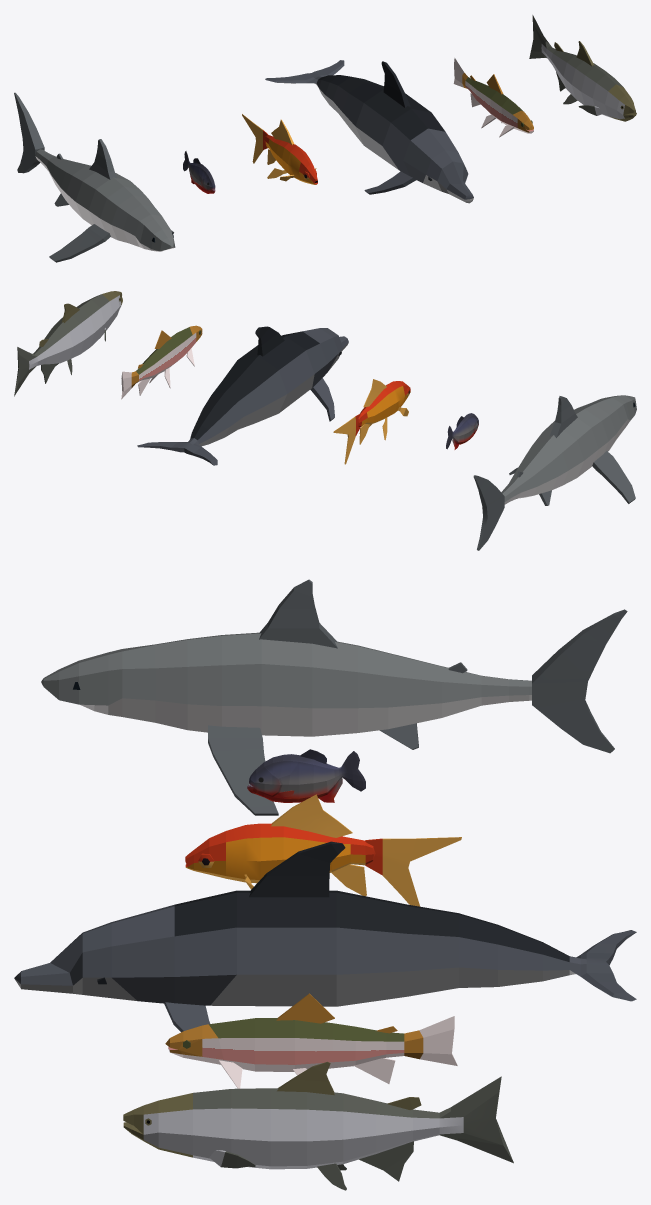
Rendered from fishies.glb.
3 renders of one model, top to bottom at view 1: azimuth 30°, elevation 25°; view 2: azimuth 150°, elevation 25°; view 3: azimuth 270°, elevation 25°, orthographic. The views are drawn at different scales.
Parts seen in each view (by area): view 1: Geo_Dolphin, Geo_Shark, Geo_Salmon, Geo_Goldfish, Geo_Trout, Piranha_mesh; view 2: Geo_Dolphin, Geo_Shark, Geo_Salmon, Geo_Trout, Geo_Goldfish, Piranha_mesh; view 3: Geo_Dolphin, Geo_Shark, Geo_Salmon, Geo_Trout, Geo_Goldfish, Piranha_mesh.
Boxes of the visible parts, x1,y1,x2,y2 form: Geo_Dolphin: (265, 60, 473, 203); Geo_Shark: (14, 92, 175, 262); Geo_Salmon: (529, 15, 636, 121); Geo_Goldfish: (242, 114, 317, 184); Geo_Trout: (453, 58, 533, 137); Piranha_mesh: (183, 151, 215, 193); Geo_Dolphin: (137, 326, 348, 465); Geo_Shark: (473, 395, 636, 550); Geo_Salmon: (14, 291, 122, 396); Geo_Trout: (121, 325, 202, 399); Geo_Goldfish: (333, 379, 410, 464); Piranha_mesh: (446, 413, 478, 449); Geo_Dolphin: (14, 841, 636, 1032); Geo_Shark: (41, 579, 627, 815); Geo_Salmon: (123, 1061, 513, 1190); Geo_Trout: (165, 993, 457, 1088); Geo_Goldfish: (185, 794, 461, 906); Piranha_mesh: (247, 749, 365, 802).
Bounding box in the file's own units: 251 × 42.44 × 130.
Materials: 6 (6 with a texture image).
